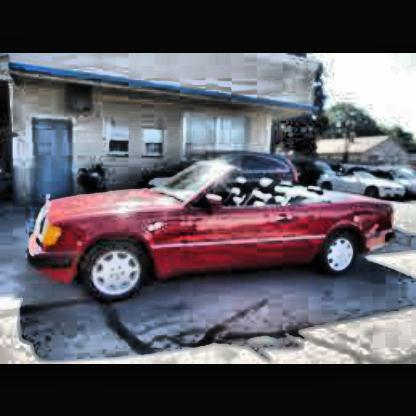Mercedes-Benz 300-Class Convertible 1993: (29, 164, 398, 305)
